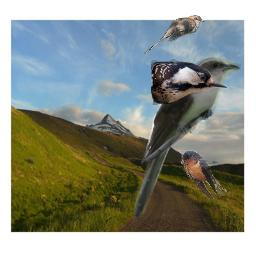Cuckoo: (128, 56, 241, 225), (144, 15, 205, 54)
Swallow: (181, 150, 230, 200)
Woodpecker: (151, 58, 227, 105)
